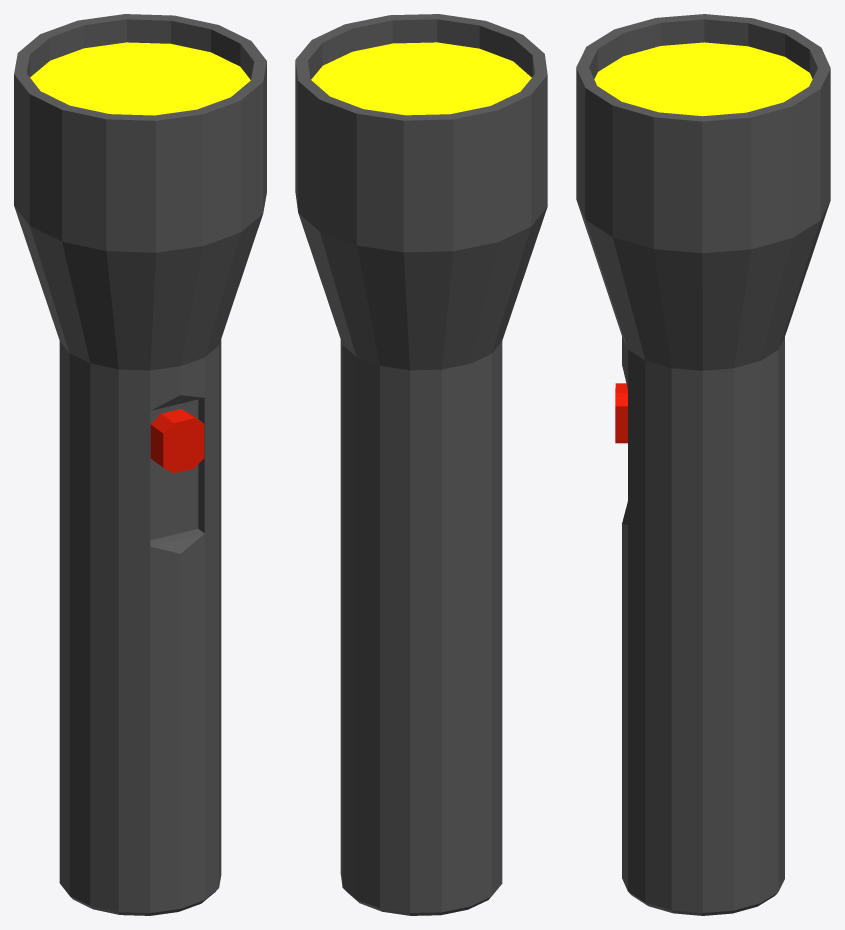
File: Flashlight.fbx
3 renders of one model, left to right at view 1: azimuth 30°, elevation 25°; view 2: azimuth 150°, elevation 25°; view 3: azimuth 270°, elevation 25°, orthographic.
Parts seen in each view (by area): view 1: Flashlight; view 2: Flashlight; view 3: Flashlight.
Part boxes in pixels (x1,y1,x2,y2): Flashlight: (14, 14, 266, 915); Flashlight: (295, 14, 547, 915); Flashlight: (576, 14, 830, 915).
Bounding box in the file's own units: 18.7 × 66.1 × 18.7.
